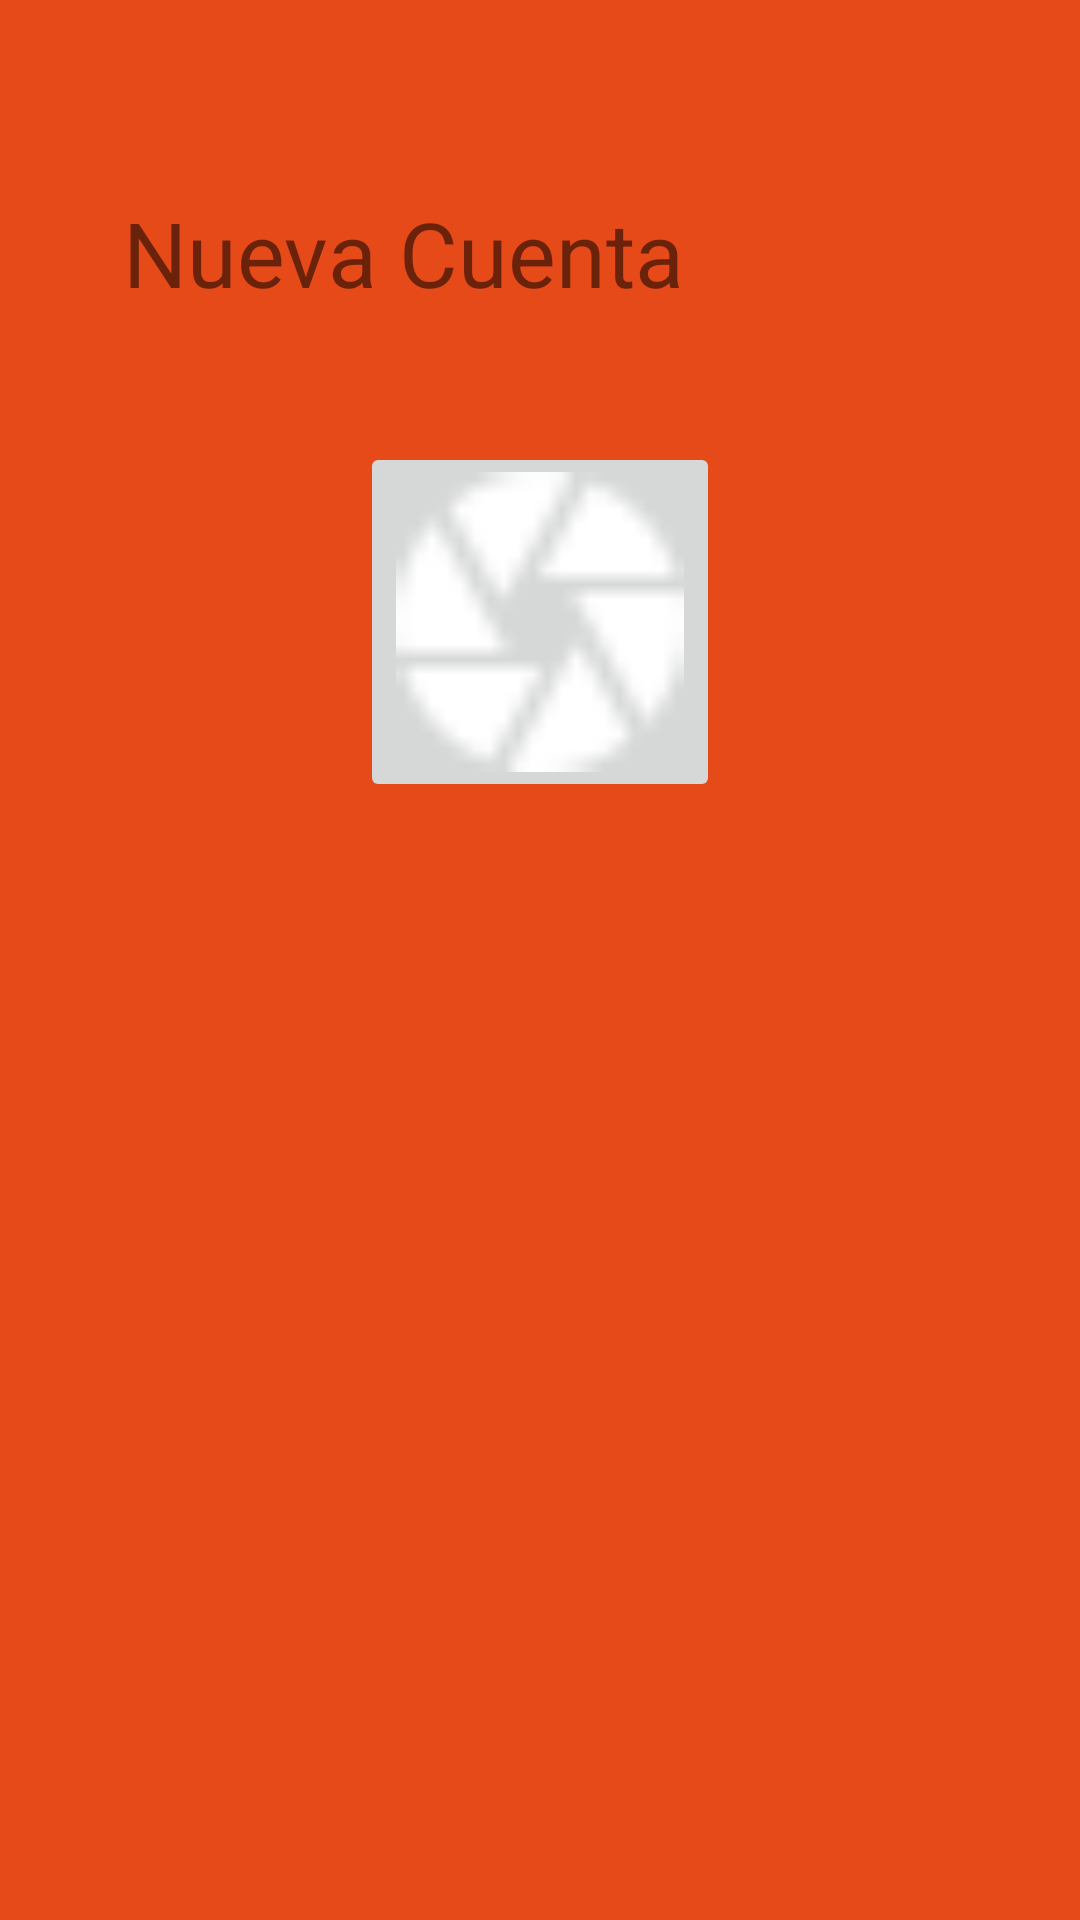

Icons on this 1080x1920 Android screen, each with its box as {"x1": x1, "y1": y1, "x2": x2, "y2": y2}:
camera: {"x1": 372, "y1": 460, "x2": 708, "y2": 784}
